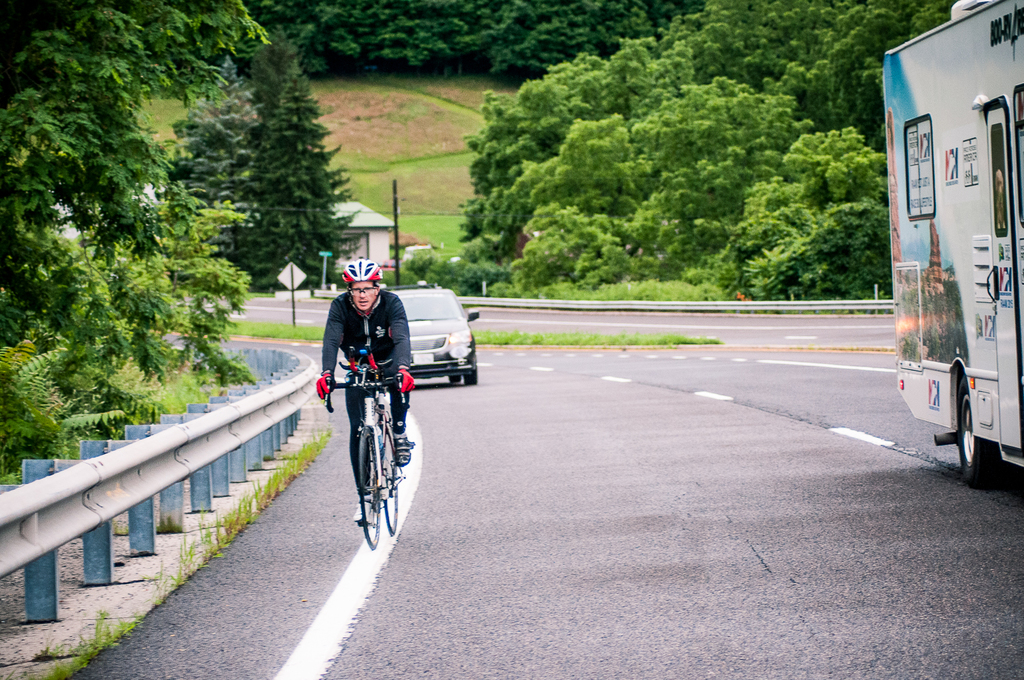Bike_toward: (320, 370, 414, 551)
